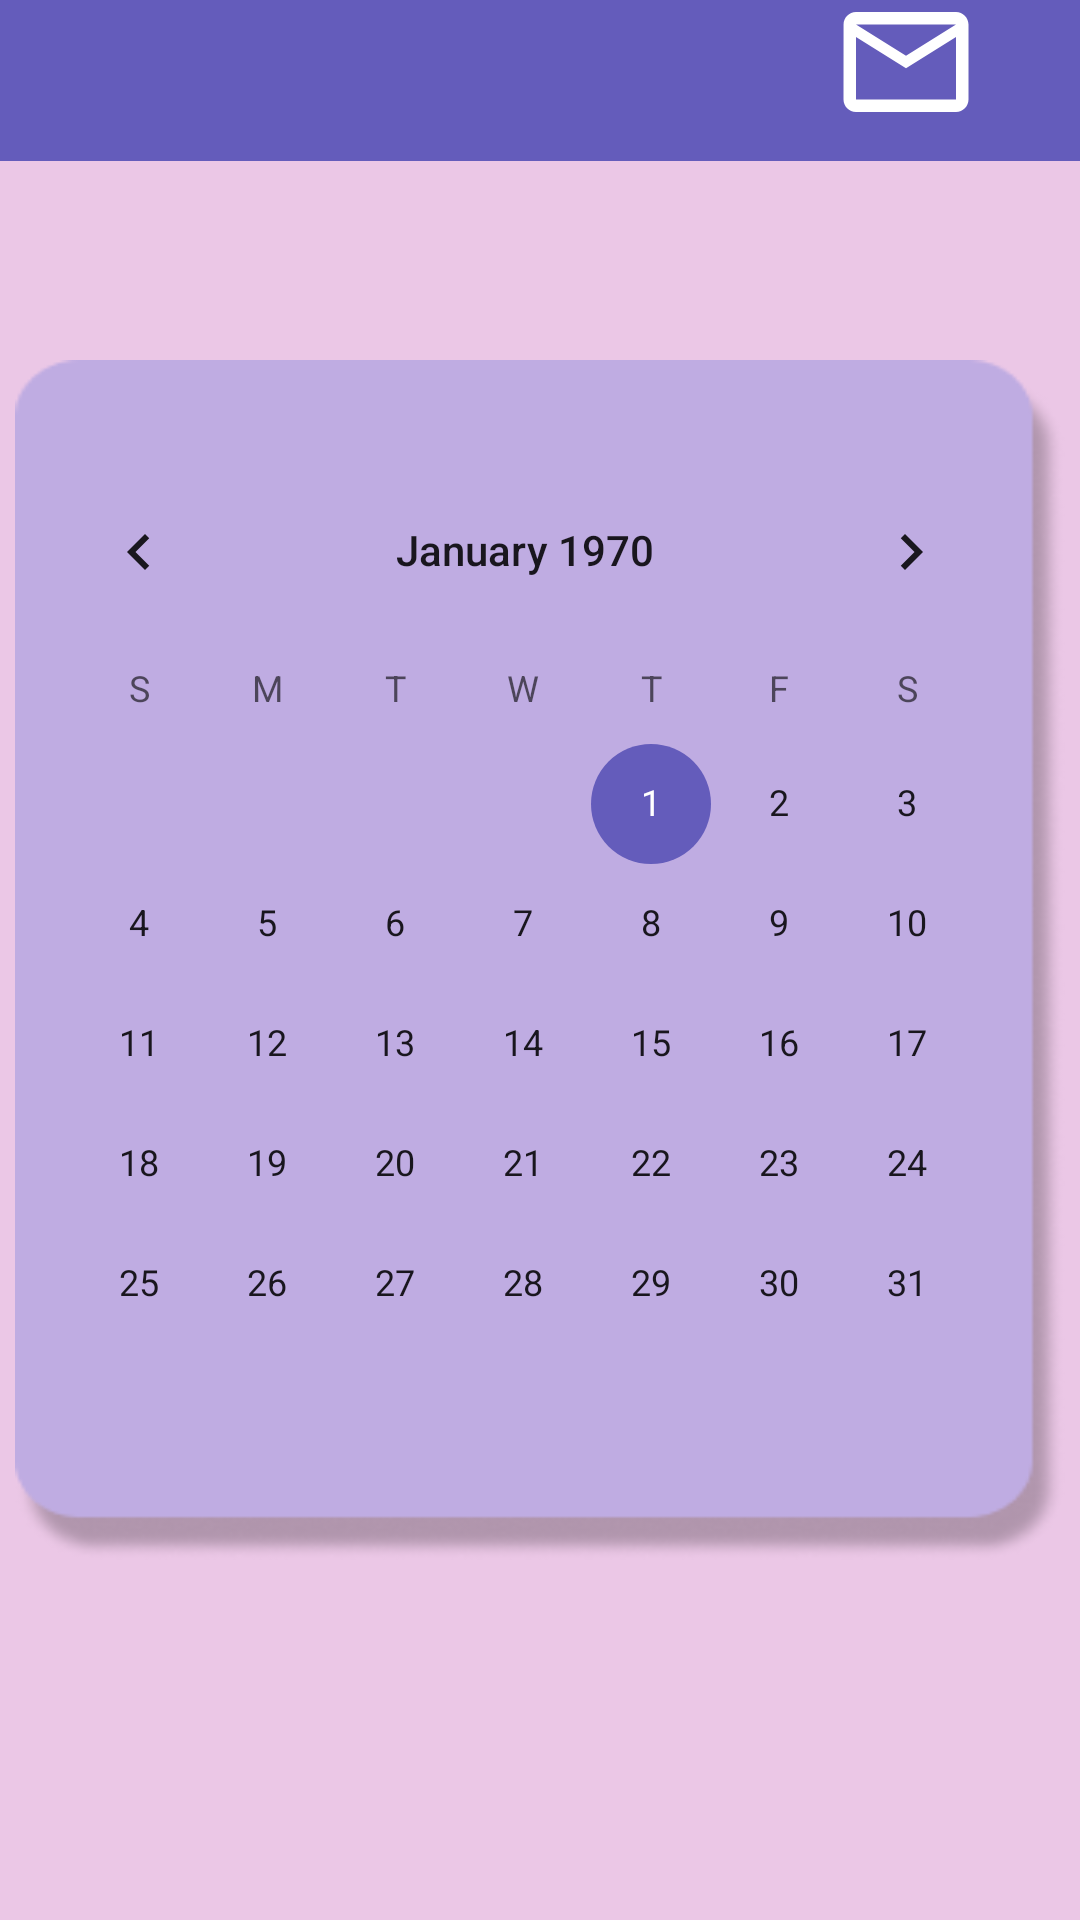

Icon click points for this 1080px×1920px phone screenshot, format (x=x, y=y):
massage: (x=906, y=62)
